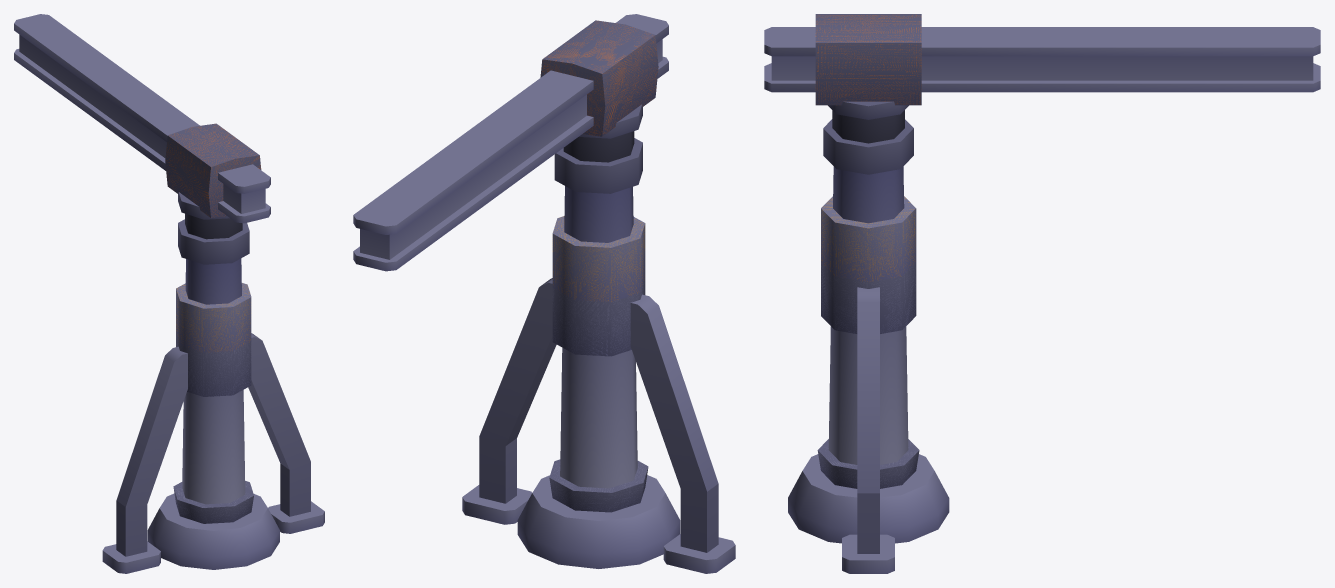
The model's file is crane.glb.
3 views of the same model, side by side, from view 1: azimuth 30°, elevation 25°; view 2: azimuth 150°, elevation 25°; view 3: azimuth 270°, elevation 25° (orthographic). The views are drawn at different scales.
Parts seen in each view (by area): view 1: crane, arm; view 2: crane, arm; view 3: crane, arm.
Part boxes in pixels (<box>): crane: <box>102,213,324,573</box>; arm: <box>14,14,270,223</box>; crane: <box>462,131,735,573</box>; arm: <box>353,14,668,271</box>; crane: <box>788,110,949,573</box>; arm: <box>764,14,1320,119</box>.
Size of the model in its own units: 1.93 by 3.55 by 3.68.
